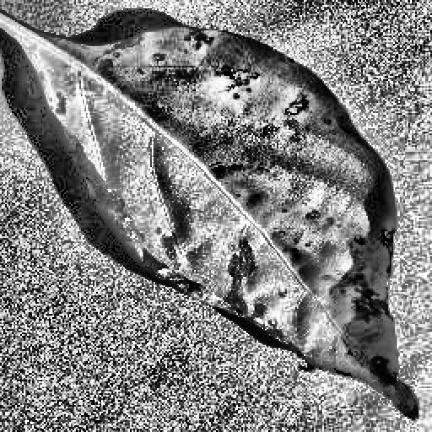leaf: (0, 12, 419, 421)
